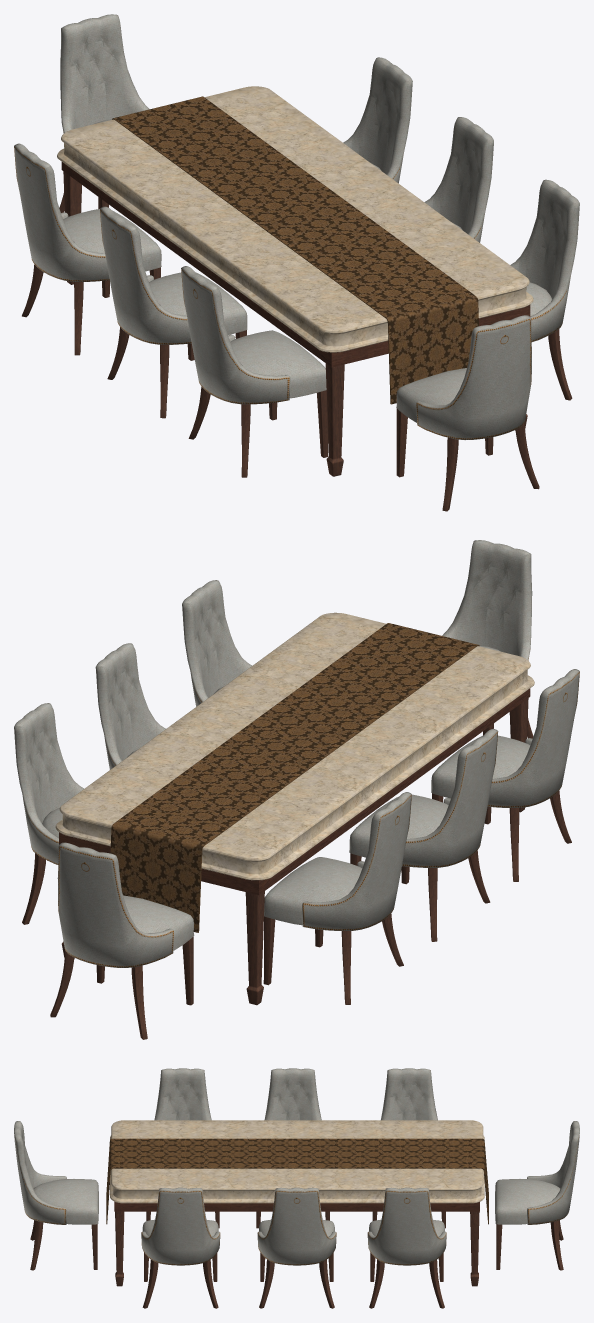
File: dining_set.fbx
3 renders of one model, top to bottom at view 1: azimuth 30°, elevation 25°; view 2: azimuth 150°, elevation 25°; view 3: azimuth 270°, elevation 25°, orthographic. The views are drawn at different scales.
Visible parts, largest first — view 1: Object001; view 2: Object001; view 3: Object001.
Boxes of the visible parts, x1,y1,x2,y2 form: Object001: (14, 14, 579, 511); Object001: (14, 540, 579, 1039); Object001: (14, 1068, 579, 1308).
Size of the model in its own units: 197 by 94.32 by 385.
5 materials, 5 textured.
